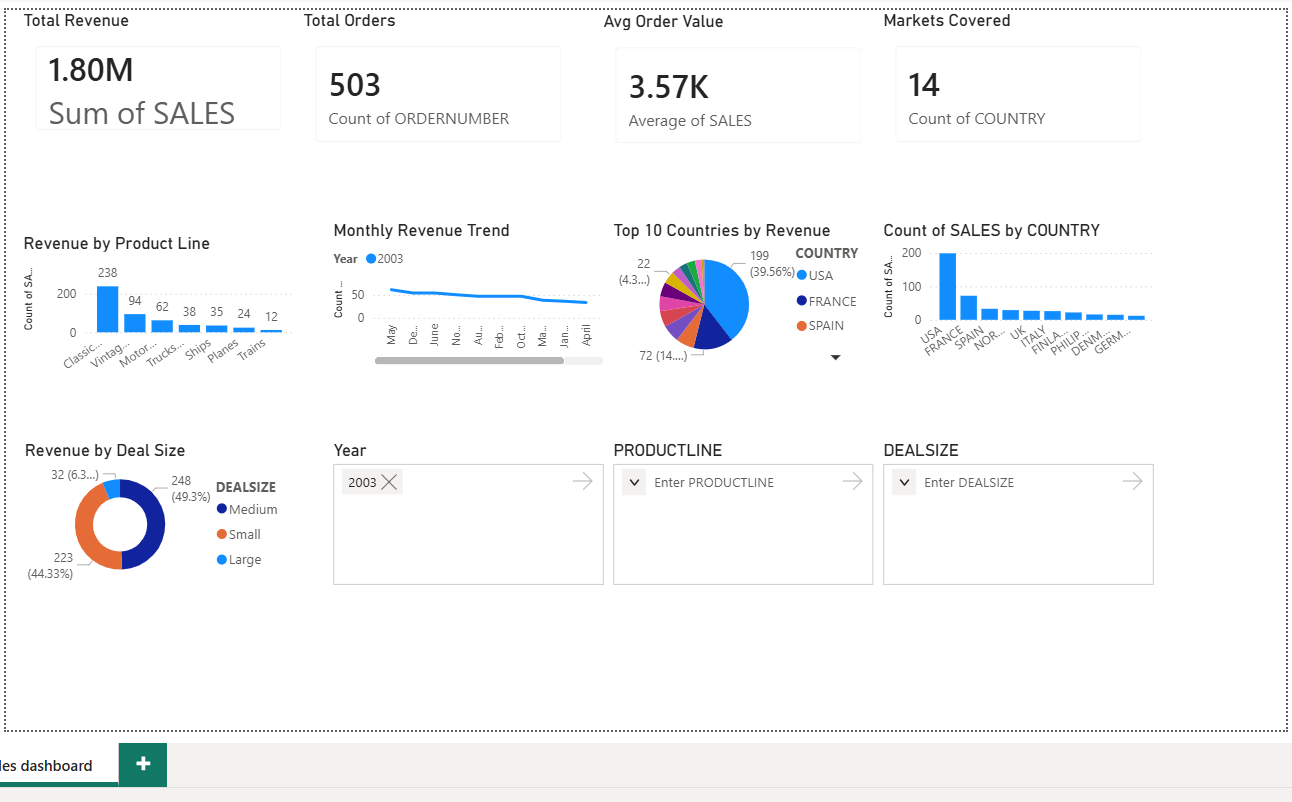

The dashboard page shown, as its layout file describes it:
{"tool":"powerbi","page":{"name":"Sales dashboard","canvas":[1280,720],"ordinal":0},"visuals":[{"type":"cardVisual","title":"Total Revenue","fields":{"Data":["Sum(sales_data_sample.SALES)"]},"box":[12.5,0,280,137.5],"z":0},{"type":"cardVisual","title":"Total Orders","fields":{"Data":["CountNonNull(sales_data_sample.ORDERNUMBER)"]},"box":[292.9,0,280,150],"z":1},{"type":"cardVisual","title":"Avg Order Value","fields":{"Data":["Avg(sales_data_sample.SALES)"]},"box":[592.9,1.4,280,150],"z":2},{"type":"cardVisual","title":"Markets Covered","fields":{"Data":["Count(sales_data_sample.COUNTRY)"]},"box":[872.9,0,280,150],"z":3},{"type":"clusteredColumnChart","title":"Revenue by Product Line","fields":{"Y":["CountNonNull(sales_data_sample.SALES)"],"Category":["sales_data_sample.PRODUCTLINE"]},"box":[13,222,280,150],"z":4},{"type":"lineChart","title":"Monthly Revenue Trend","fields":{"Category":["sales_data_sample.Month Name"],"Y":["CountNonNull(sales_data_sample.SALES)"],"Series":["sales_data_sample.Year"]},"box":[322.9,210,280,150],"z":5},{"type":"pieChart","title":"Top 10 Countries by Revenue","fields":{"Y":["CountNonNull(sales_data_sample.SALES)"],"Category":["sales_data_sample.COUNTRY"]},"box":[603,210,270,150],"z":6},{"type":"clusteredColumnChart","fields":{"Category":["sales_data_sample.COUNTRY"],"Y":["CountNonNull(sales_data_sample.SALES)"]},"box":[872.9,210,280,150],"z":7},{"type":"donutChart","title":"Revenue by Deal Size","fields":{"Category":["sales_data_sample.DEALSIZE"],"Y":["CountNonNull(sales_data_sample.SALES)"]},"box":[13.3,430,280,150],"z":8},{"type":"textSlicer","fields":{"Values":["sales_data_sample.Year"]},"box":[323,430,280,150],"z":9},{"type":"textSlicer","fields":{"Values":["sales_data_sample.PRODUCTLINE"]},"box":[603,430,270,150],"z":10},{"type":"textSlicer","fields":{"Values":["sales_data_sample.DEALSIZE"]},"box":[873,430,280,150],"z":11},{"type":"actionButton","box":[0,0,100,40],"z":12}]}

Visuals, with their boxes on the page's 1280x720 design canvas (x1, y1, x2, y2). These are canvas units, not pixel positions in the 1292x802 screenshot, which may show the page scaled, cropped or inside an application window:
"Total Revenue" cardVisual: x1=12, y1=0, x2=292, y2=138
"Total Orders" cardVisual: x1=293, y1=0, x2=573, y2=150
"Avg Order Value" cardVisual: x1=593, y1=1, x2=873, y2=151
"Markets Covered" cardVisual: x1=873, y1=0, x2=1153, y2=150
"Revenue by Product Line" clusteredColumnChart: x1=13, y1=222, x2=293, y2=372
"Monthly Revenue Trend" lineChart: x1=323, y1=210, x2=603, y2=360
"Top 10 Countries by Revenue" pieChart: x1=603, y1=210, x2=873, y2=360
clusteredColumnChart - sales_data_sample.COUNTRY x CountNonNull(sales_data_sample.SALES): x1=873, y1=210, x2=1153, y2=360
"Revenue by Deal Size" donutChart: x1=13, y1=430, x2=293, y2=580
textSlicer - sales_data_sample.Year: x1=323, y1=430, x2=603, y2=580
textSlicer - sales_data_sample.PRODUCTLINE: x1=603, y1=430, x2=873, y2=580
textSlicer - sales_data_sample.DEALSIZE: x1=873, y1=430, x2=1153, y2=580
actionButton: x1=0, y1=0, x2=100, y2=40
